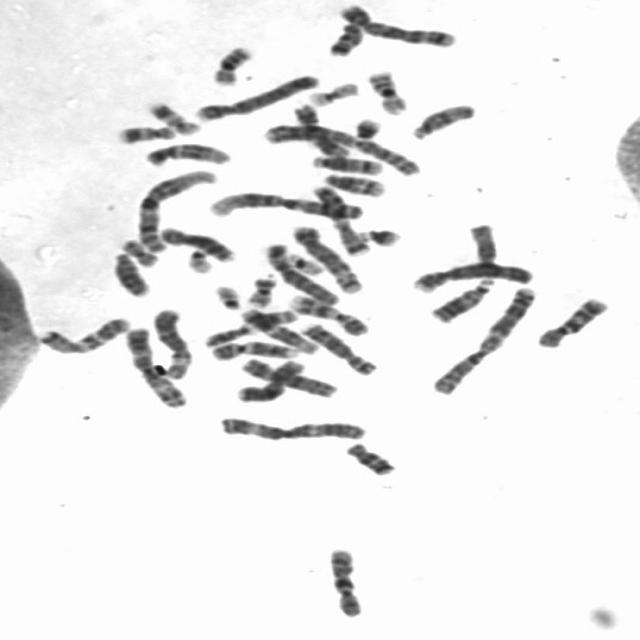A1: (129, 163, 220, 254), (201, 185, 366, 221)
A2: (424, 280, 540, 396), (255, 117, 424, 177)
A3: (118, 321, 192, 409), (211, 410, 370, 442)
B4: (188, 68, 324, 122), (404, 256, 536, 294)
B5: (331, 0, 460, 49), (284, 219, 366, 294)
C10: (528, 290, 613, 350), (320, 542, 368, 618)
C11: (196, 304, 299, 349), (284, 97, 351, 159)
C12: (233, 303, 321, 355), (137, 137, 234, 167)
C6: (257, 237, 341, 306), (144, 302, 195, 380)
C7: (304, 178, 374, 256), (30, 310, 133, 356)
C8: (292, 316, 380, 376), (152, 220, 238, 264)
C9: (282, 288, 371, 336), (204, 335, 302, 361)
D13: (422, 273, 498, 324), (104, 246, 152, 298)
D14: (315, 167, 388, 197), (304, 149, 386, 175)
D15: (403, 98, 478, 140), (460, 218, 500, 281)
E16: (359, 64, 412, 115), (203, 40, 257, 86)
E17: (140, 95, 203, 137), (108, 118, 178, 144)
E18: (338, 436, 398, 476), (320, 18, 366, 58)
F19: (299, 75, 362, 107), (275, 246, 327, 276)
F20: (111, 234, 160, 268), (239, 271, 280, 308)
G21: (350, 222, 404, 248), (345, 111, 385, 141)
G22: (206, 279, 245, 311), (178, 244, 216, 274)
X: (233, 352, 340, 399), (228, 354, 307, 403)
